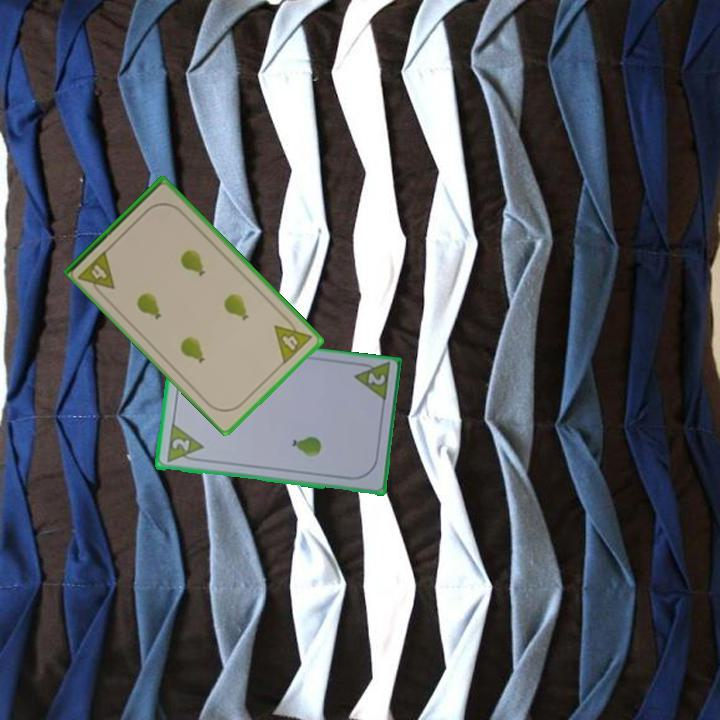2p: (349, 359, 393, 405), (168, 435, 192, 454)
4p: (271, 312, 315, 367), (75, 246, 118, 300)
